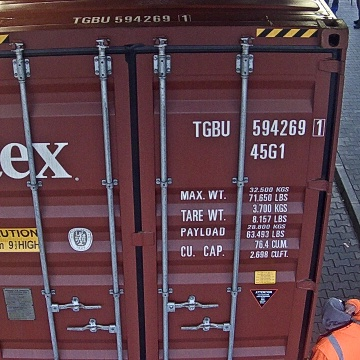serial_id: (192, 119, 322, 136)
